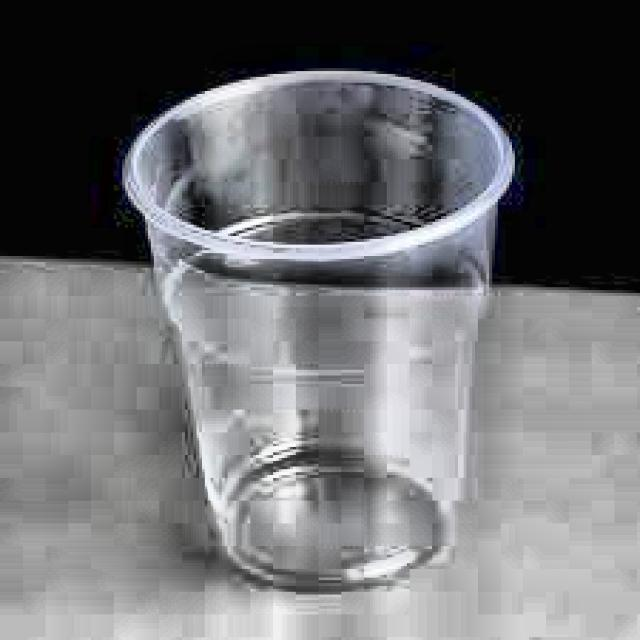plastic cup: (123, 52, 520, 602)
